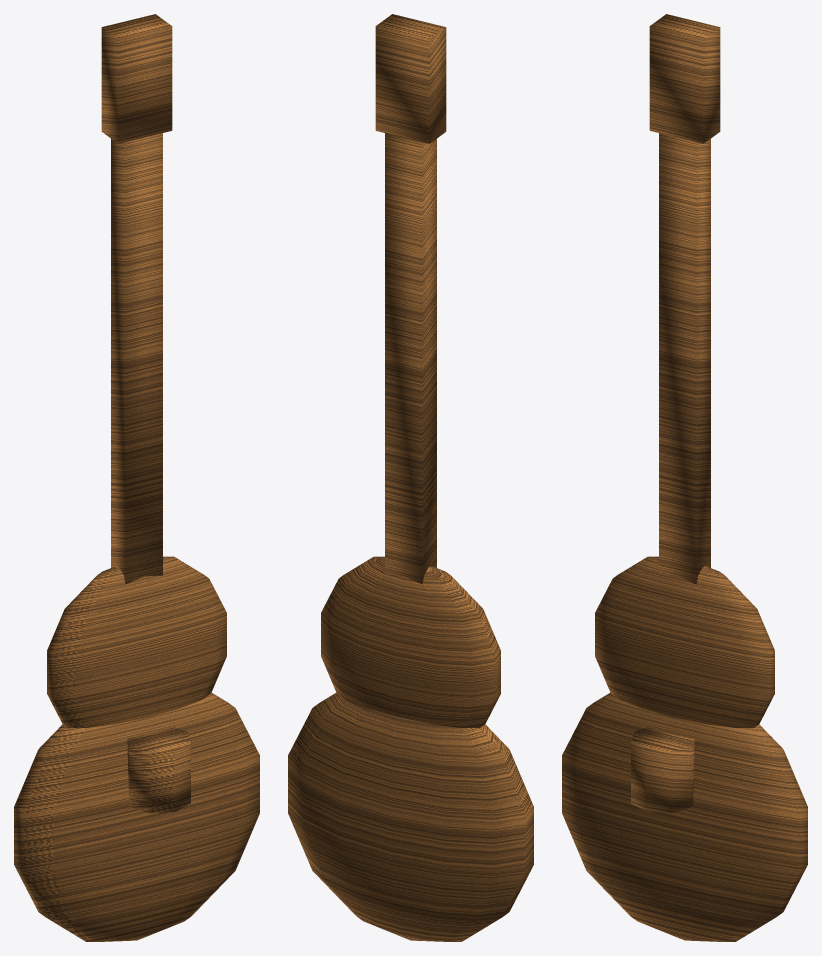
File: guitarra.obj
The picture shows the model from 3 angles, left to right: view 1: azimuth 30°, elevation 25°; view 2: azimuth 150°, elevation 25°; view 3: azimuth 330°, elevation 25°; orthographic projection.
Parts seen in each view (by area): view 1: guitarra; view 2: guitarra; view 3: guitarra.
Boxes of the visible parts, box(x1,y1,x2,y2) form: guitarra: box(14, 14, 259, 941); guitarra: box(288, 14, 533, 941); guitarra: box(562, 14, 807, 941).
Size of the model in its own units: 0.2851 by 1.05 by 0.1209.
1 material, 1 textured.
